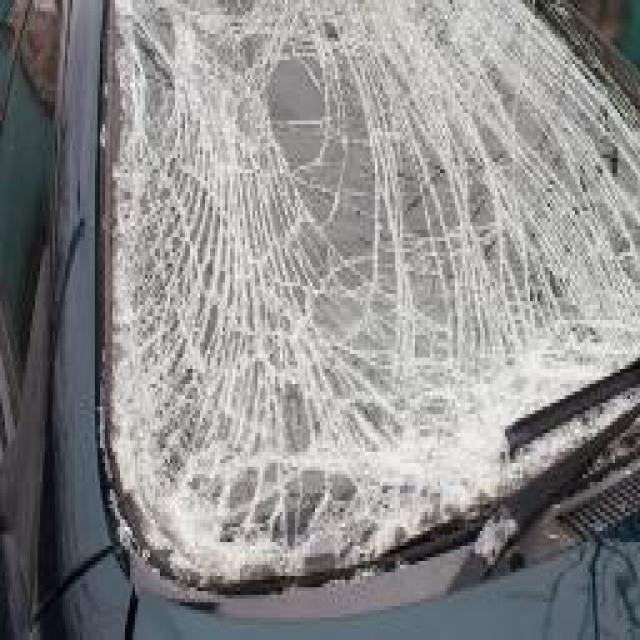Windshield: (110, 4, 640, 531)
